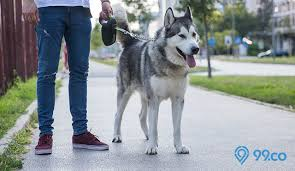Bulldog: (112, 5, 212, 161)
